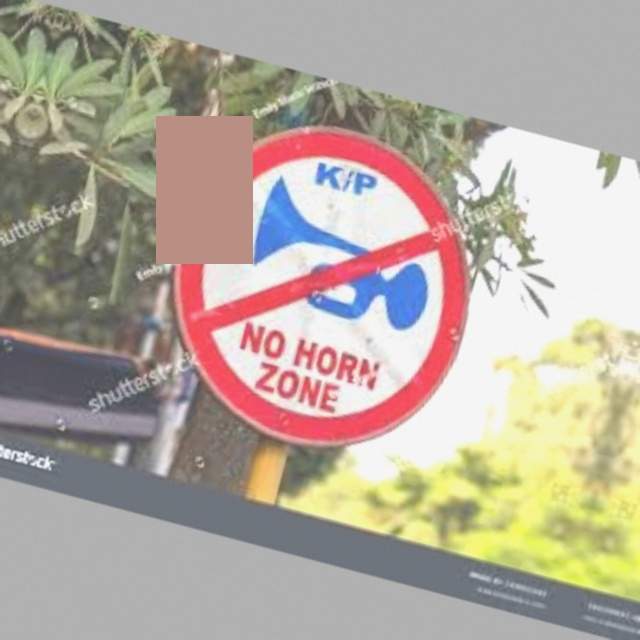Horn_Prohibited: (148, 100, 500, 468)
